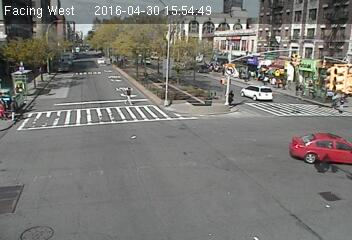neg: (212, 164, 228, 186), (315, 151, 330, 171), (145, 152, 158, 170), (159, 86, 172, 103), (72, 75, 85, 92), (156, 12, 168, 28), (312, 127, 323, 143), (253, 163, 264, 178), (194, 110, 205, 124), (74, 171, 84, 184), (105, 70, 114, 82), (75, 117, 83, 127), (52, 114, 58, 122)
pos: (4, 97, 23, 122), (118, 83, 135, 107), (334, 95, 349, 114), (224, 88, 238, 106), (331, 90, 344, 108), (259, 73, 271, 90)
